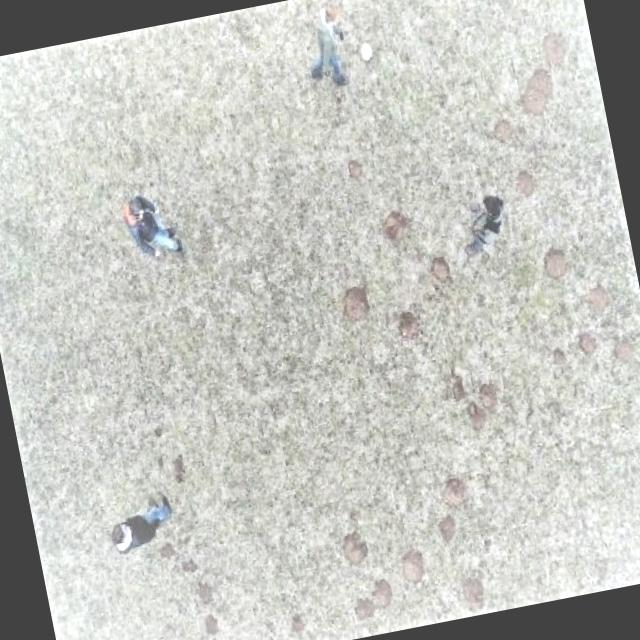Person: (293, 0, 368, 95), (98, 480, 182, 564), (114, 181, 192, 268), (453, 184, 524, 260)
